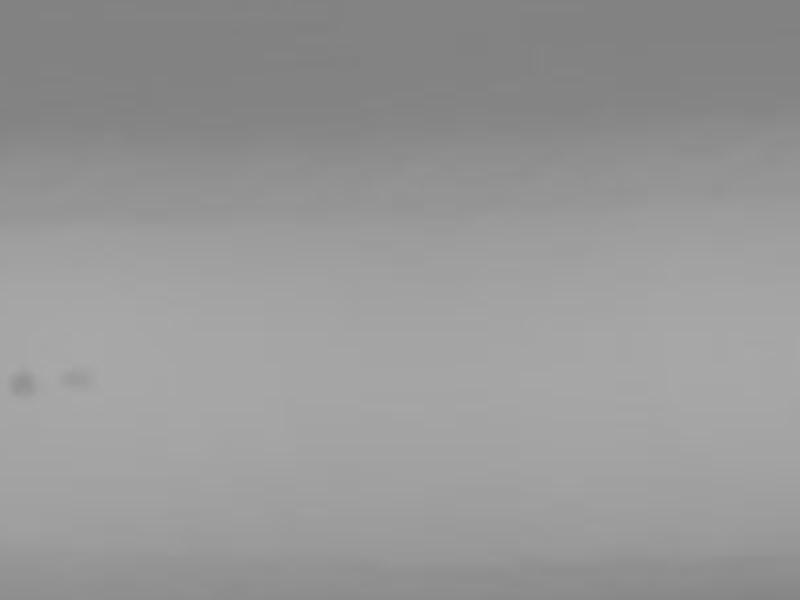defect: (10, 372, 36, 399), (59, 368, 91, 387)
